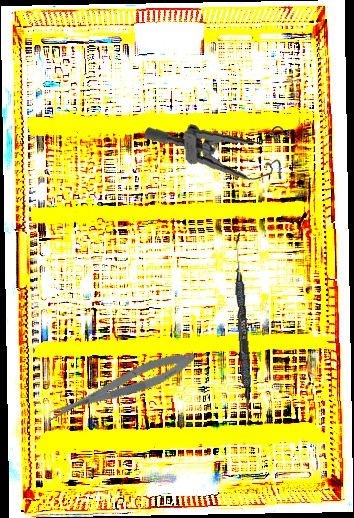Micro Scissor: (42, 344, 200, 427)
Spatula Surgical: (229, 233, 257, 426)
Speculum: (142, 114, 298, 192)
